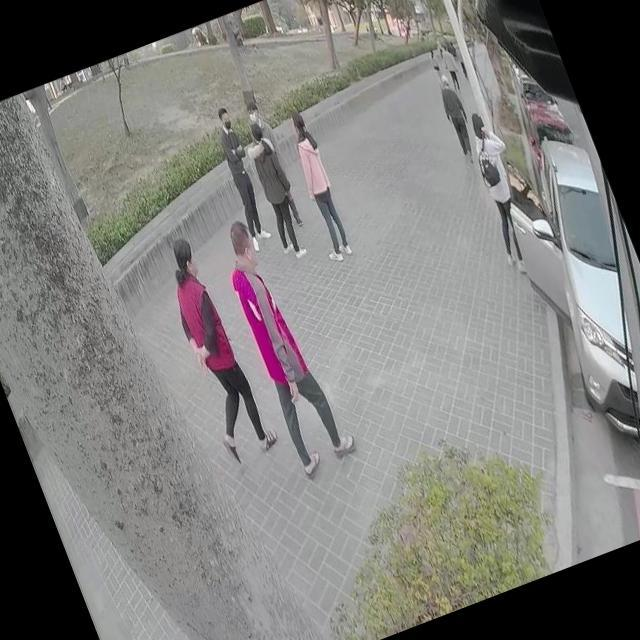person: (211, 210, 360, 478), (147, 229, 279, 463), (450, 100, 554, 282), (276, 107, 356, 260), (238, 92, 315, 240), (205, 112, 277, 250), (240, 124, 312, 258), (432, 74, 481, 162), (438, 42, 466, 94), (424, 45, 444, 81)
